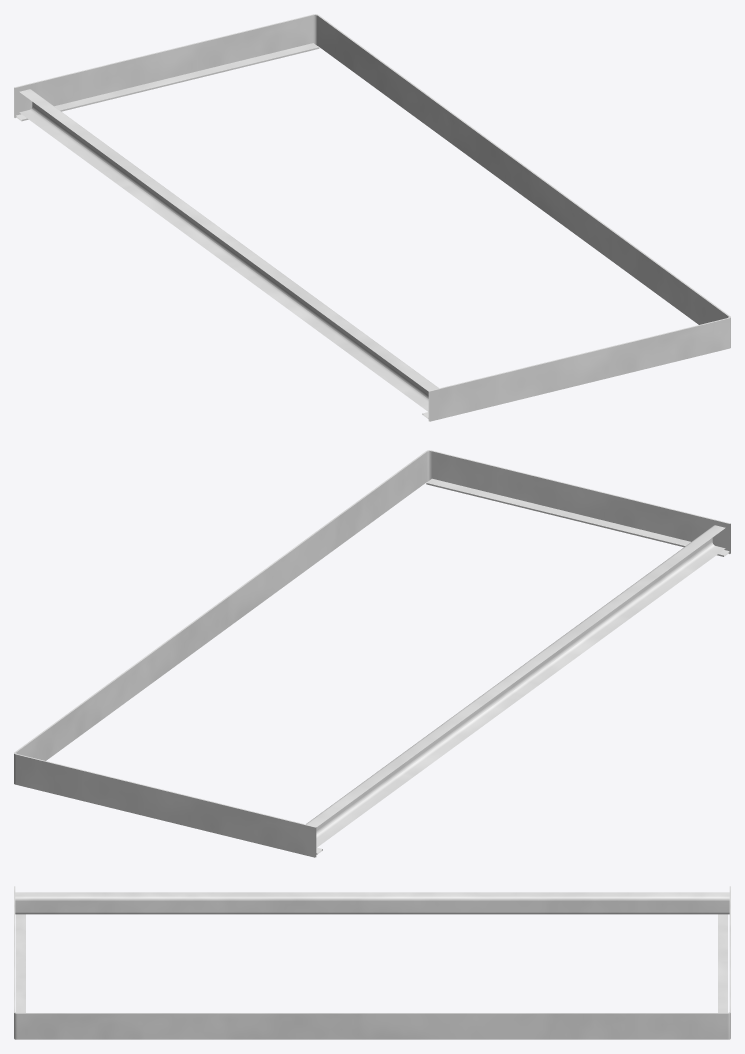
File: ShelfMetalFrame100cm.fbx
3 renders of one model, top to bottom at view 1: azimuth 30°, elevation 25°; view 2: azimuth 150°, elevation 25°; view 3: azimuth 270°, elevation 25°, orthographic. The views are drawn at different scales.
Visible parts, largest first — view 1: ShelfMetalFrame100cm; view 2: ShelfMetalFrame100cm; view 3: ShelfMetalFrame100cm.
Boxes of the visible parts, x1,y1,x2,y2 form: ShelfMetalFrame100cm: [14, 14, 730, 421]; ShelfMetalFrame100cm: [14, 450, 730, 857]; ShelfMetalFrame100cm: [14, 886, 730, 1039].
Size of what is drawn, in the model's own units: 41.9 by 99.58 by 4.
Materials: 1 (1 with a texture image).
